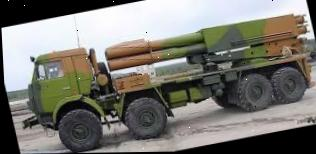rszo: (8, 0, 316, 154)
